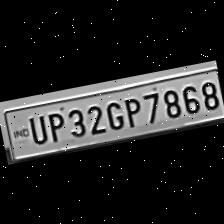2: (82, 100, 107, 135)
3: (62, 103, 88, 139)
6: (176, 80, 202, 116)
7: (138, 88, 164, 125)
8: (157, 83, 183, 120), (195, 75, 221, 112)
G: (101, 96, 126, 132)
P: (43, 107, 68, 143), (119, 94, 144, 130)
U: (22, 110, 48, 146)
